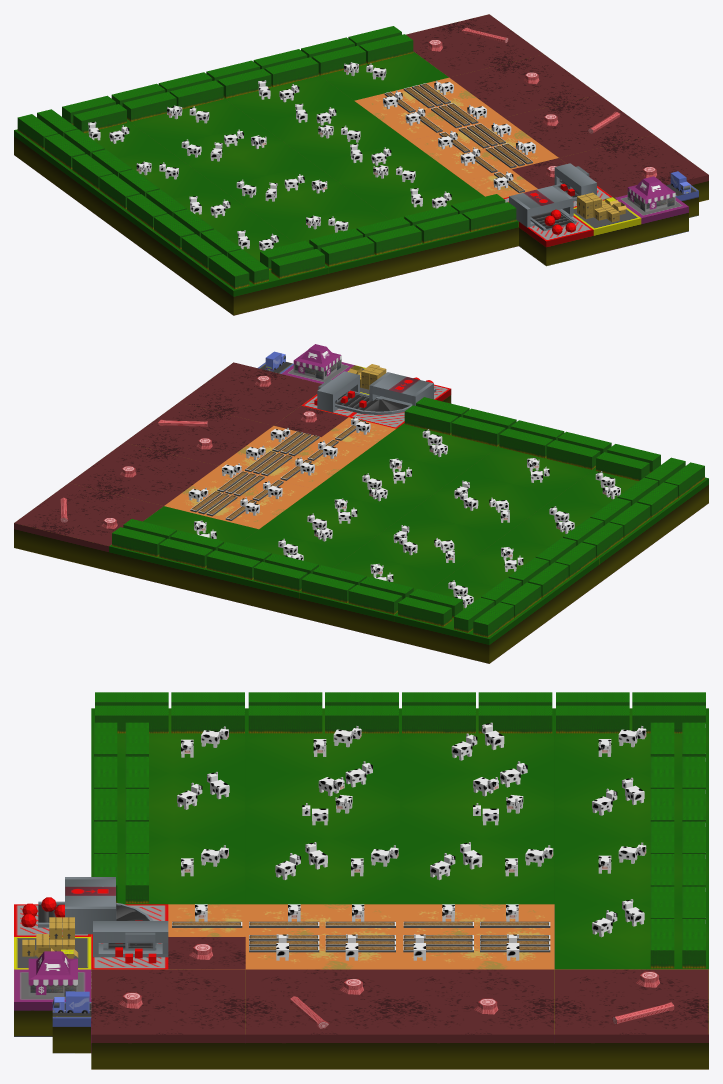
File: cheesescene06.gltf
3 renders of one model, top to bottom at view 1: azimuth 30°, elevation 25°; view 2: azimuth 150°, elevation 25°; view 3: azimuth 270°, elevation 25°, orthographic. The views are drawn at different scales.
Parts seen in each view (by area): view 1: bLand.019, bFarm.040, bLand.017, bLand.016, bLand.018, bFarm.043, bFarm.051, bFarm.050, bFarm.044, bFarm.041, bFarm.042, bFarm.049 (+55 smaller); view 2: bLand.018, bLand.019, bLand.016, bFarm.048, bLand.017, bFarm.050, bFarm.044, bFarm.043, bFarm.051, bFarm.047, bFarm.039, bFarm.046 (+54 smaller); view 3: bLand.016, bLand.019, bLand.017, bLand.018, bFarm.044, bFarm.050, bFarm.043, bFarm.051, bFarm.042, bFarm.046, bFarm.039, bFarm.041 (+58 smaller).
Boxes of the visible parts, box(x1,y1,x2,y2) form: bLand.019: box(449, 54, 598, 117); bFarm.040: box(178, 227, 328, 315); bLand.017: box(504, 94, 653, 157); bLand.016: box(559, 135, 708, 201); bLand.018: box(406, 14, 543, 77); bFarm.043: box(314, 141, 463, 204); bFarm.051: box(259, 101, 408, 163); bFarm.050: box(164, 124, 313, 187); bFarm.044: box(219, 164, 368, 227); bFarm.041: box(274, 204, 423, 292); bFarm.042: box(369, 181, 518, 269); bFarm.049: box(69, 147, 218, 234); bLand.018: box(14, 483, 163, 570); bLand.019: box(69, 443, 218, 505); bLand.016: box(179, 362, 321, 425); bFarm.048: box(394, 575, 544, 663); bLand.017: box(124, 402, 273, 465); bFarm.050: box(354, 512, 503, 575); bFarm.044: box(409, 472, 558, 535); bFarm.043: box(314, 449, 463, 512); bFarm.051: box(259, 489, 408, 552); bFarm.047: box(299, 552, 448, 640); bFarm.039: box(109, 506, 258, 594); bFarm.046: box(204, 529, 353, 617); bLand.016: box(91, 969, 245, 1069); bLand.019: box(400, 969, 554, 1069); bLand.017: box(245, 969, 399, 1069); bLand.018: box(554, 969, 708, 1069); bFarm.044: box(245, 773, 399, 838); bFarm.050: box(400, 773, 554, 838); bFarm.043: box(245, 839, 399, 904); bFarm.051: box(400, 839, 554, 904); bFarm.042: box(91, 839, 245, 904); bFarm.046: box(554, 839, 708, 904); bFarm.039: box(554, 904, 708, 969); bFarm.041: box(91, 773, 245, 838).
Bounding box in the file's own units: 10 × 0.9425 × 9.
1 material, 1 textured.
